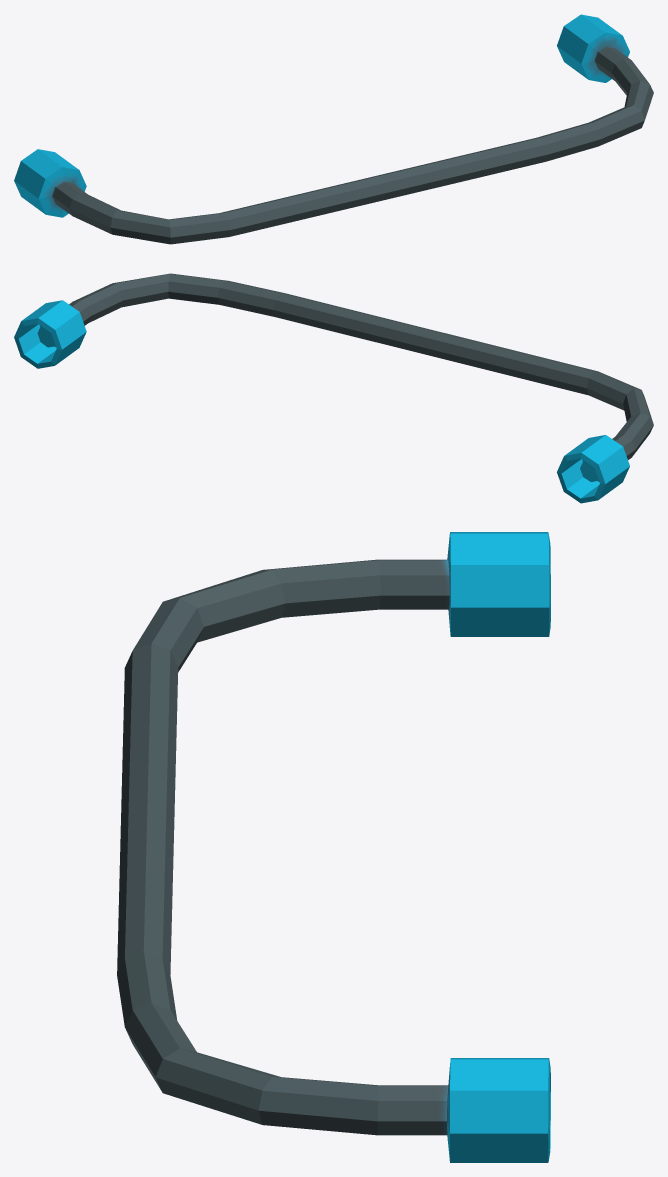
Rendered from Cyan_tube.fbx.
The picture shows the model from 3 angles, top to bottom: view 1: azimuth 30°, elevation 25°; view 2: azimuth 150°, elevation 25°; view 3: azimuth 270°, elevation 25°; orthographic projection. The views are drawn at different scales.
Parts seen in each view (by area): view 1: Cyan_tube; view 2: Cyan_tube; view 3: Cyan_tube.
Part boxes in pixels (bbox=[...]): Cyan_tube: bbox=[14, 14, 653, 244]; Cyan_tube: bbox=[14, 273, 653, 503]; Cyan_tube: bbox=[117, 532, 550, 1162].
Bounding box in the file's own units: 7 × 0.5984 × 2.22.
